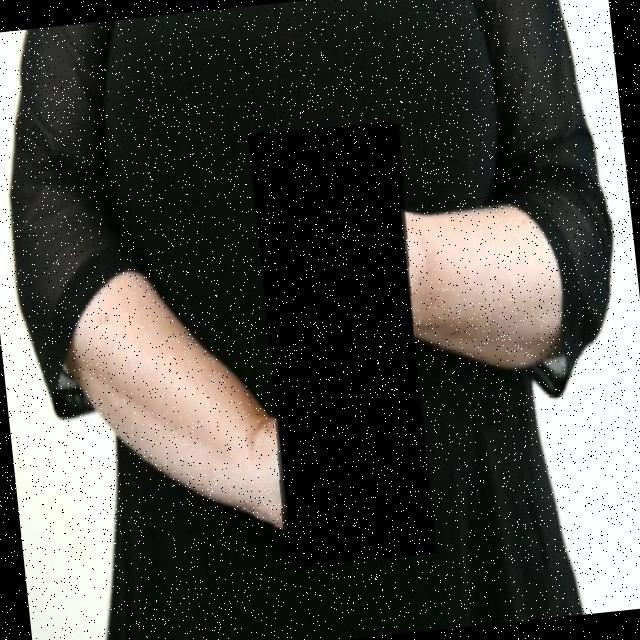S: (245, 121, 442, 571)
